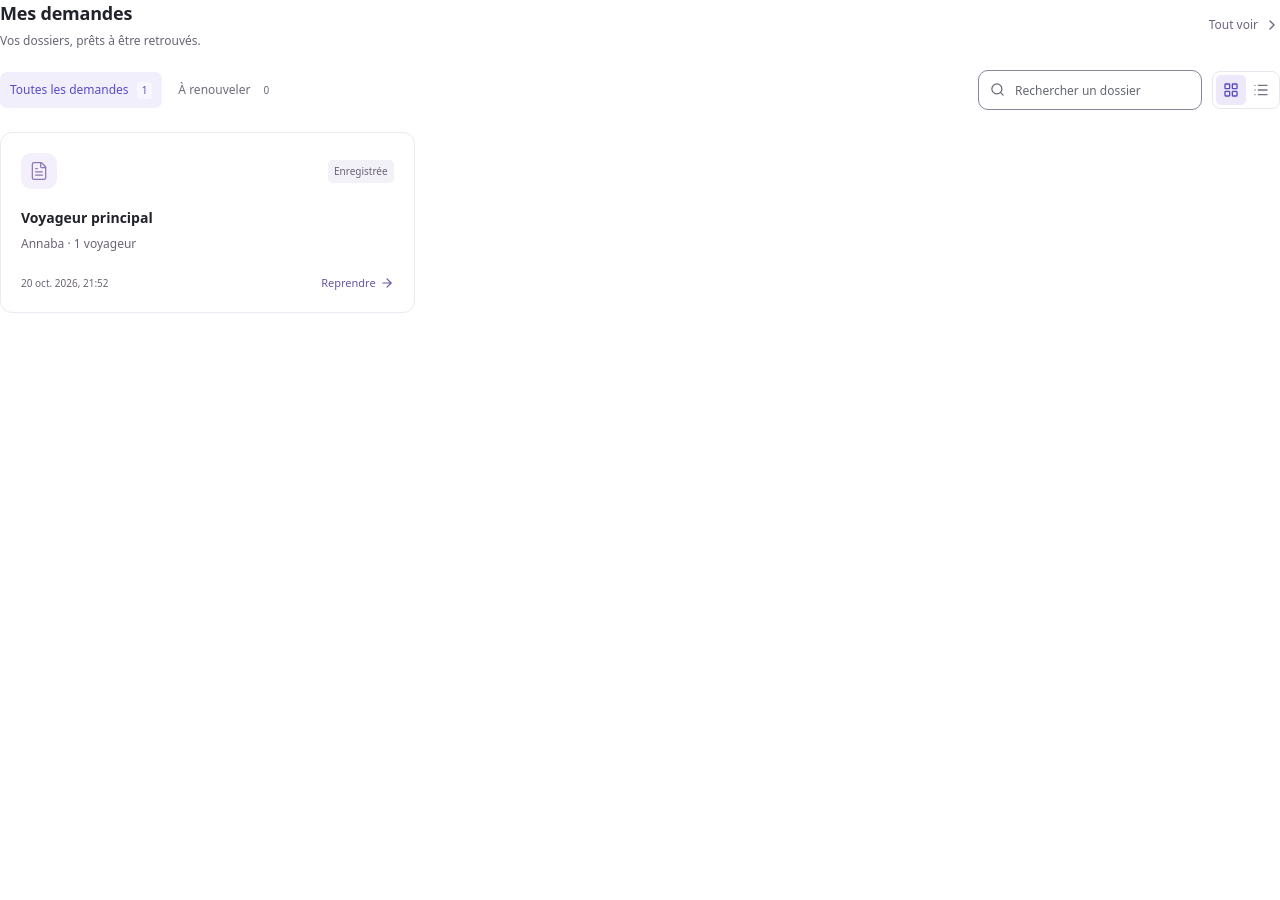
Test: ProVisa home workspace › opens read-only details without invoking the request reuse action
Click the button with aria-label "Consulter le dossier": (87,218) [21,207,153,228]
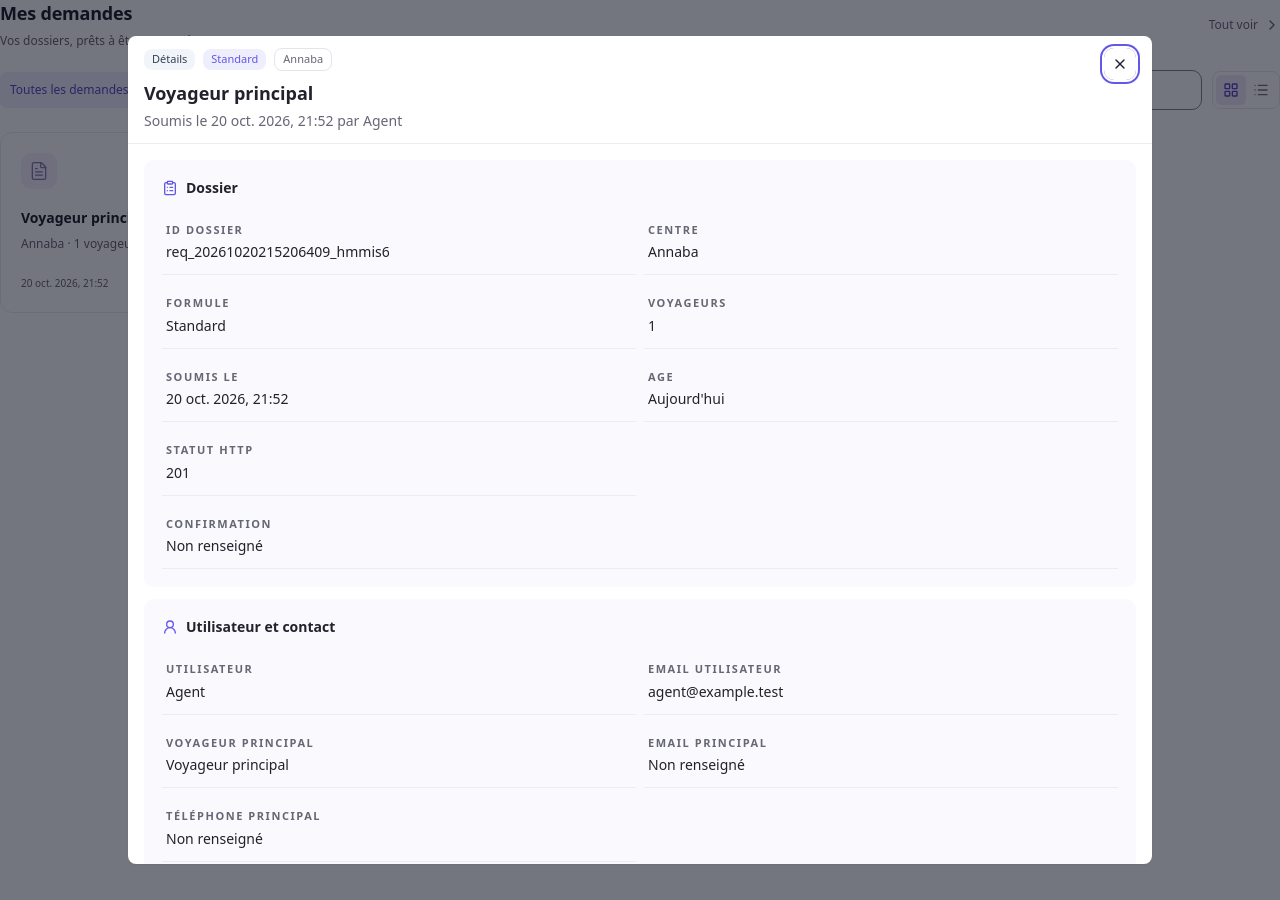
Now the dialog is shown
Press Escape
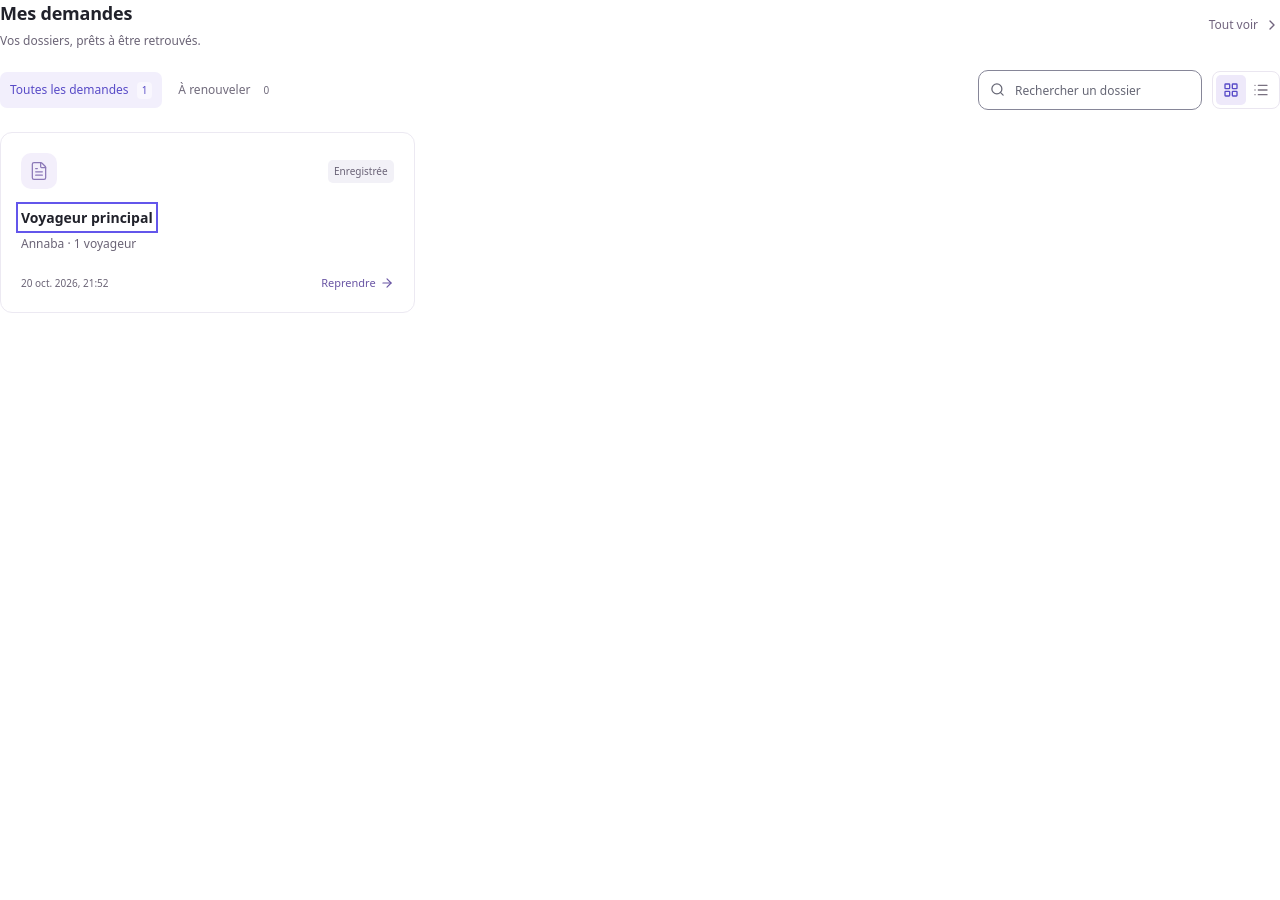
Now the dialog is gone
